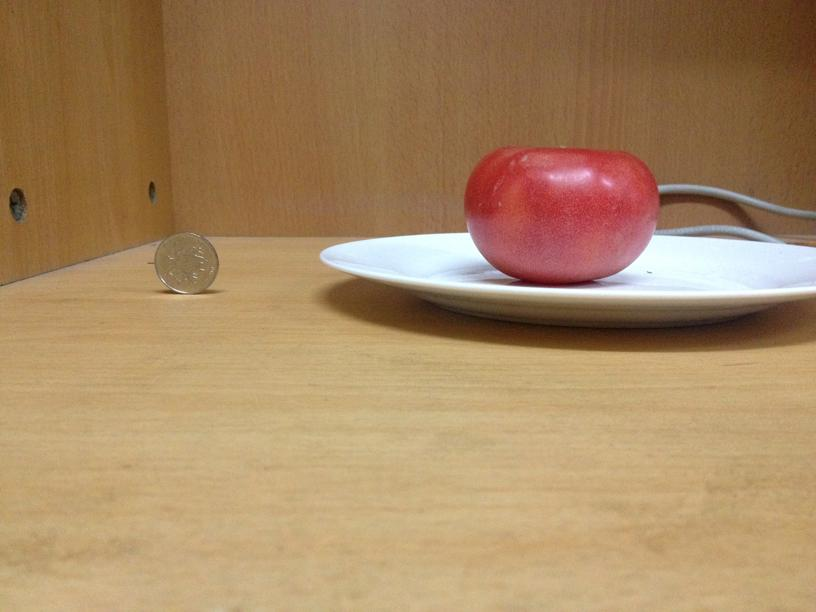coin: (149, 229, 222, 297)
tomato: (456, 144, 661, 282)
